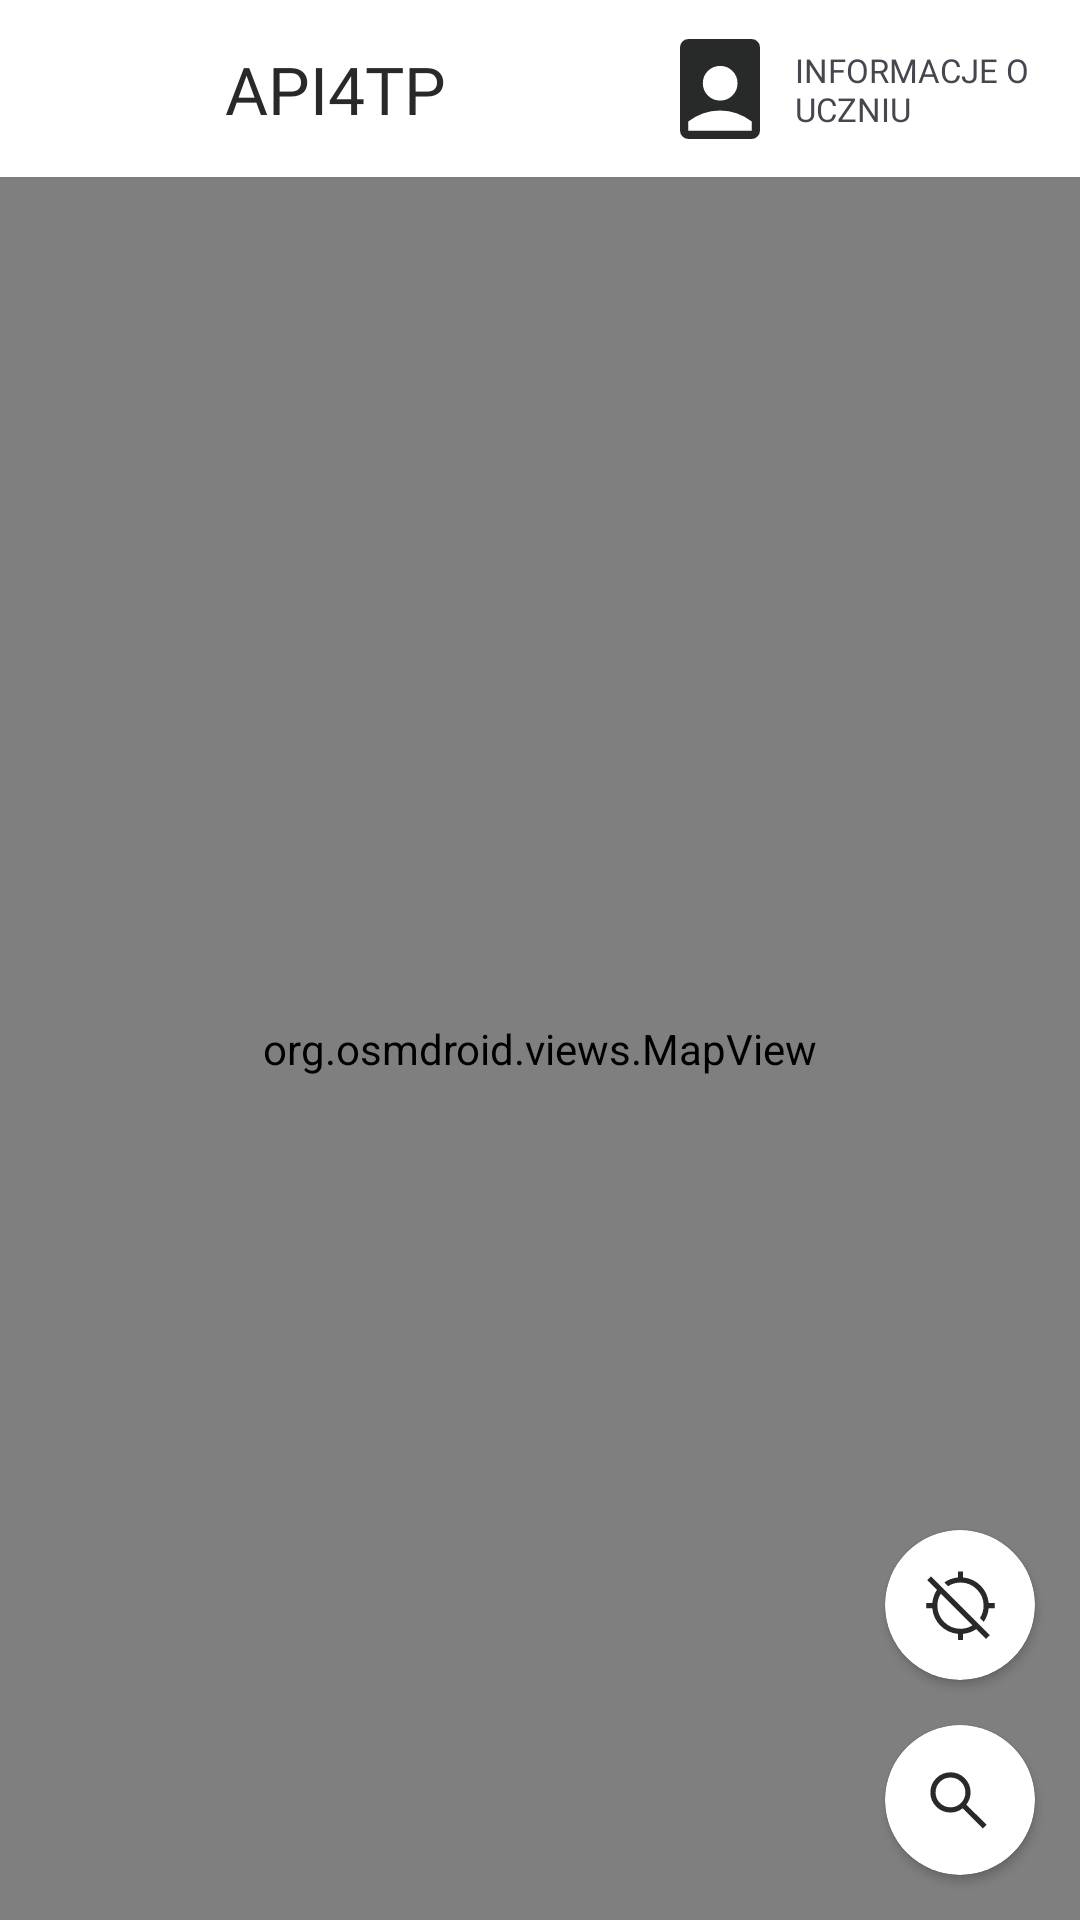

Where icons sit on this 1080×1920 app screen, as (x1, y1, x2, y2):
person book: (680, 39, 760, 139)
